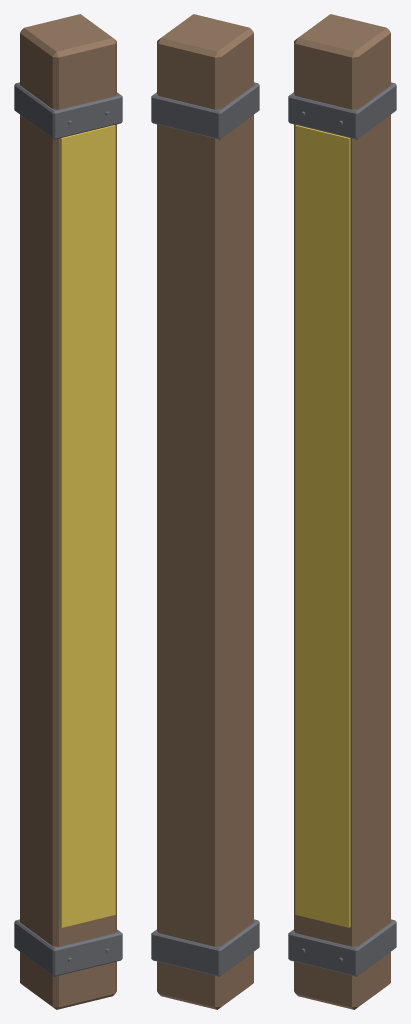
The model's file is Garage_Post_Hazard.glb.
The picture shows the model from 3 angles, left to right: view 1: azimuth 30°, elevation 25°; view 2: azimuth 150°, elevation 25°; view 3: azimuth 330°, elevation 25°; orthographic projection.
Parts seen in each view (by area): view 1: Garage_Post_Hazard; view 2: Garage_Post_Hazard; view 3: Garage_Post_Hazard.
Part boxes in pixels (x1=…): Garage_Post_Hazard: x1=14, y1=14, x2=122, y2=1009; Garage_Post_Hazard: x1=151, y1=14, x2=259, y2=1009; Garage_Post_Hazard: x1=288, y1=14, x2=396, y2=1009.
Bounding box in the file's own units: 0.26 × 3.4 × 0.265.
